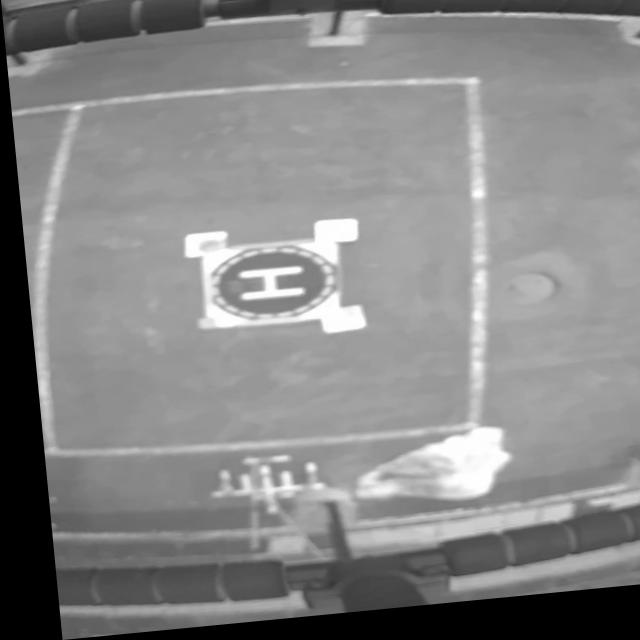Helipad: (231, 271, 297, 306)
